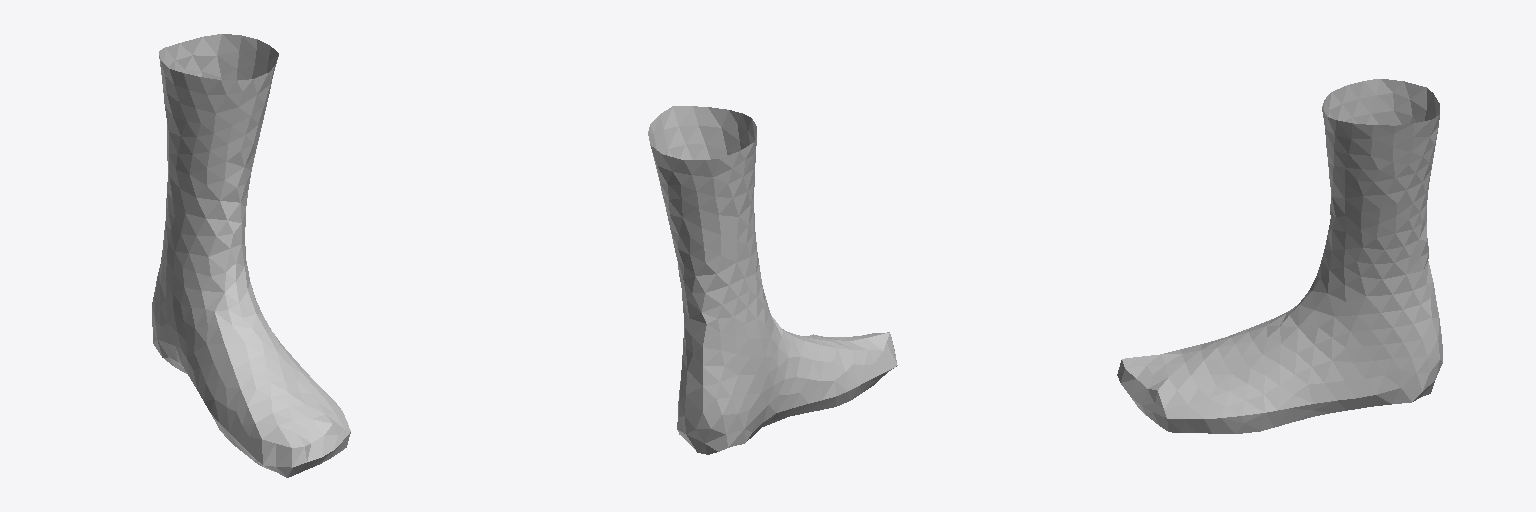
File: sock482.obj
3 renders of one model, left to right at view 1: azimuth 30°, elevation 25°; view 2: azimuth 150°, elevation 25°; view 3: azimuth 270°, elevation 25°, orthographic.
Bounding box in the file's own units: 0.1269 × 0.3194 × 0.2917.